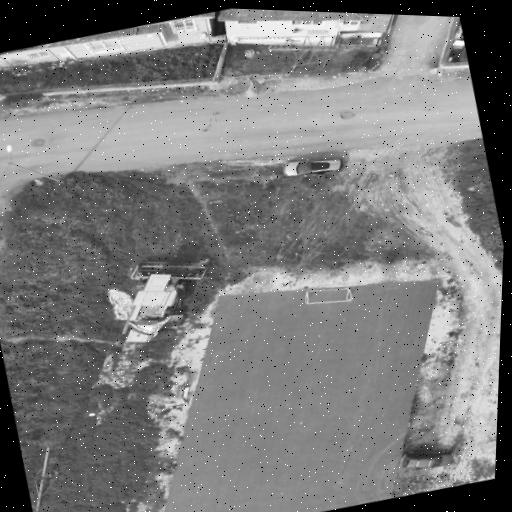car: (283, 157, 343, 175), (400, 450, 453, 467)
harvester: (124, 261, 207, 341)
